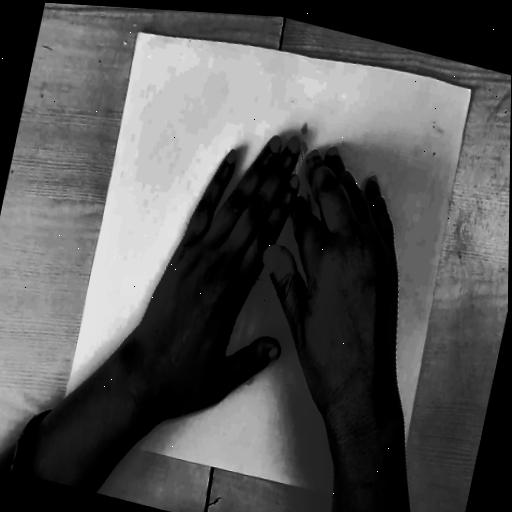bottom_left: (53, 426, 67, 448)
bottom_right: (385, 497, 398, 512)
signboard: (183, 119, 350, 402)
top_left: (131, 26, 145, 44)
top_right: (466, 82, 478, 97)
